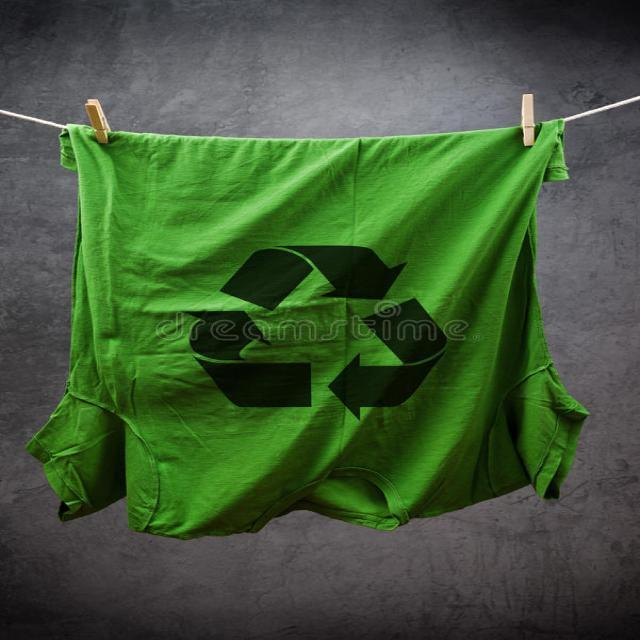clothes: (27, 142, 574, 527)
